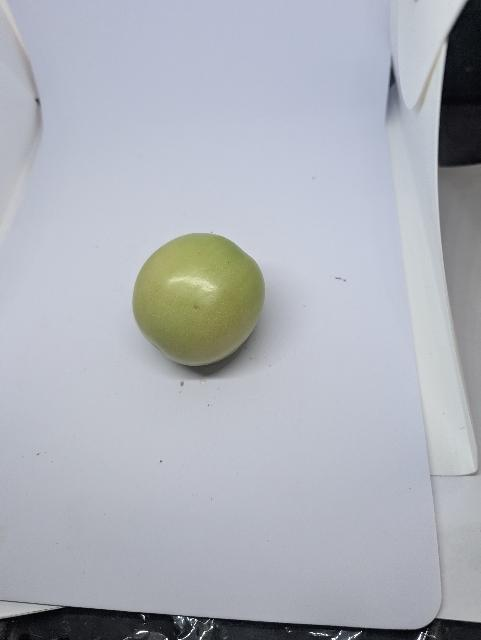green: (129, 230, 269, 368)
